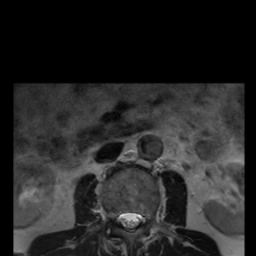CCS_normal: (125, 204, 133, 238)
LFS_stenosis: (142, 207, 152, 229)
LLS_normal: (133, 205, 142, 233)
RFS_normal: (108, 204, 117, 229)
RLS_normal: (117, 206, 125, 230)
